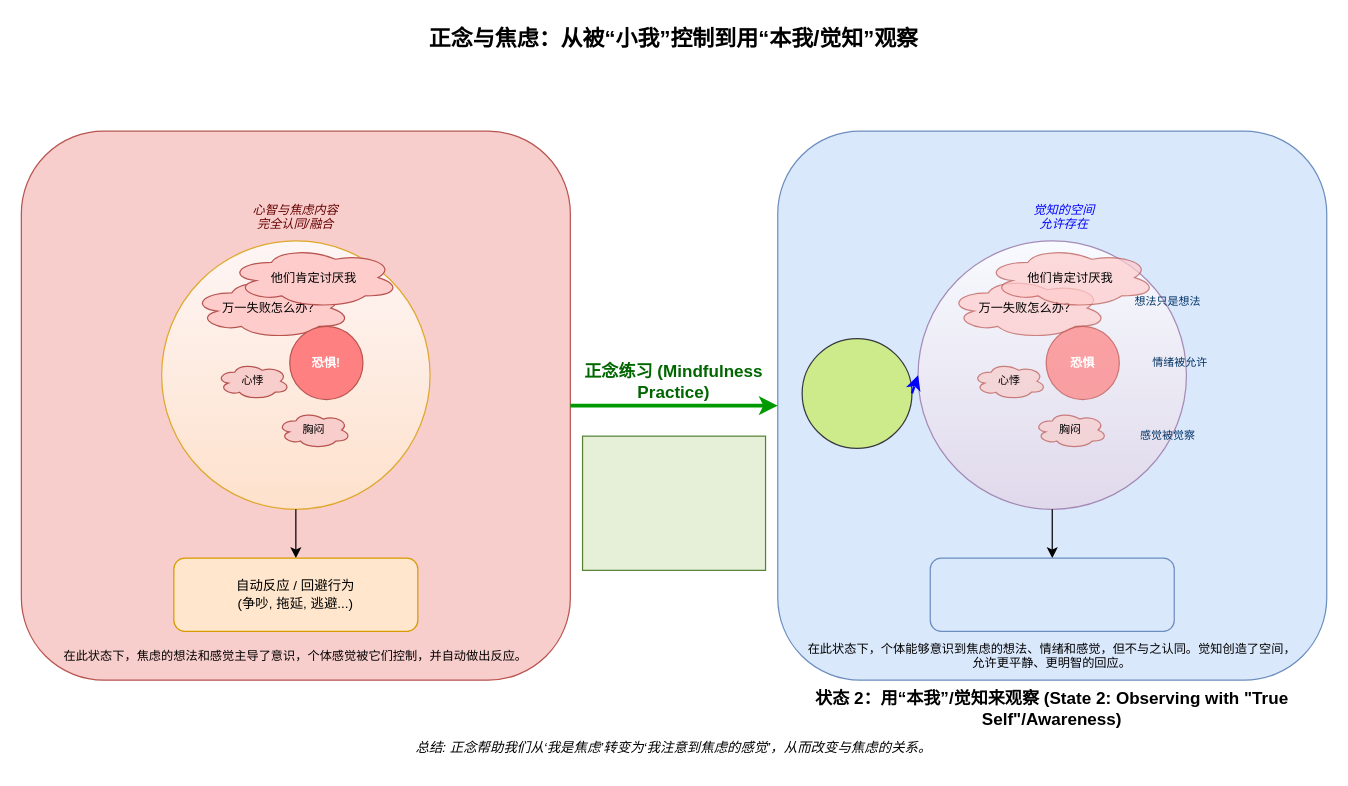
This 1348x786 diagram has some shape labels left out. The shapes that lost their labels are listed below. From the top down, each one's box as (x1, y1, x2, y2) in pixels, then its label:
(20, 130, 570, 680): 状态 1：被“小我”/焦虑融合所控制 (State 1: Controlled by "Small Self"/Anxiety Fusion)
(801, 337, 912, 448): 观察性觉知 (本我功能)
(581, 435, 766, 570): 关键要素: - 专注呼吸/锚点 - 觉察念头/情绪/感觉 - 不加评判 - 接纳/允许 - 温柔带回注意力 - 培养觉知
(929, 557, 1174, 631): 有意识的回应 / 选择 (暂停, 沟通, 按价值观行动...)
